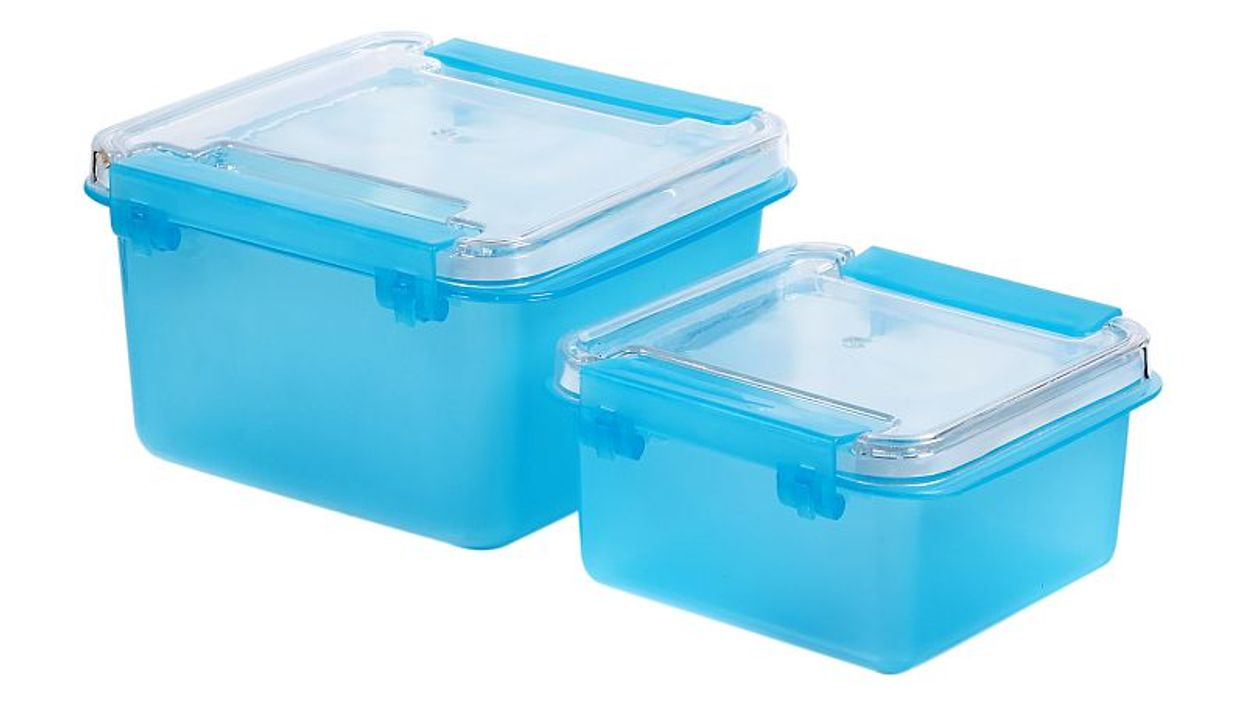PlasticBox: (541, 232, 1168, 681)
